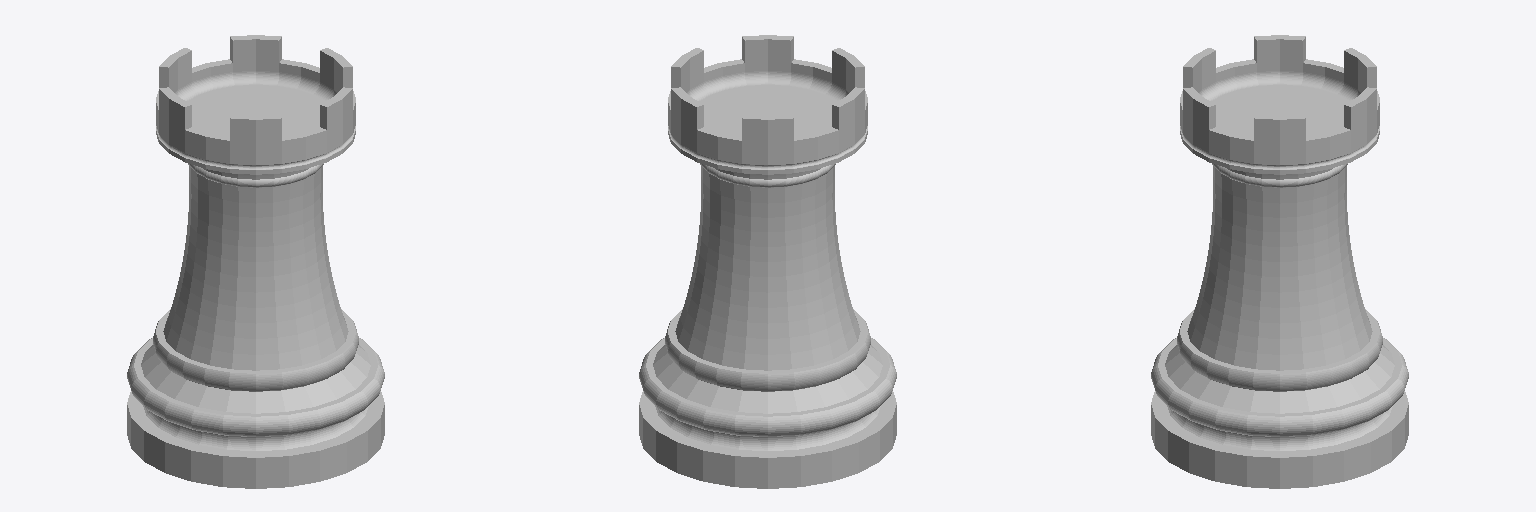
Rendered from torreb.obj.
3 renders of one model, left to right at view 1: azimuth 30°, elevation 25°; view 2: azimuth 150°, elevation 25°; view 3: azimuth 270°, elevation 25°, orthographic.
Visible parts, largest first — view 1: object_1; view 2: object_1; view 3: object_1.
Part boxes in pixels (bbox=[...]): object_1: bbox=[127, 35, 384, 488]; object_1: bbox=[639, 35, 896, 488]; object_1: bbox=[1151, 35, 1408, 488].
Size of the model in its own units: 0.0569 by 0.0868 by 0.0569.